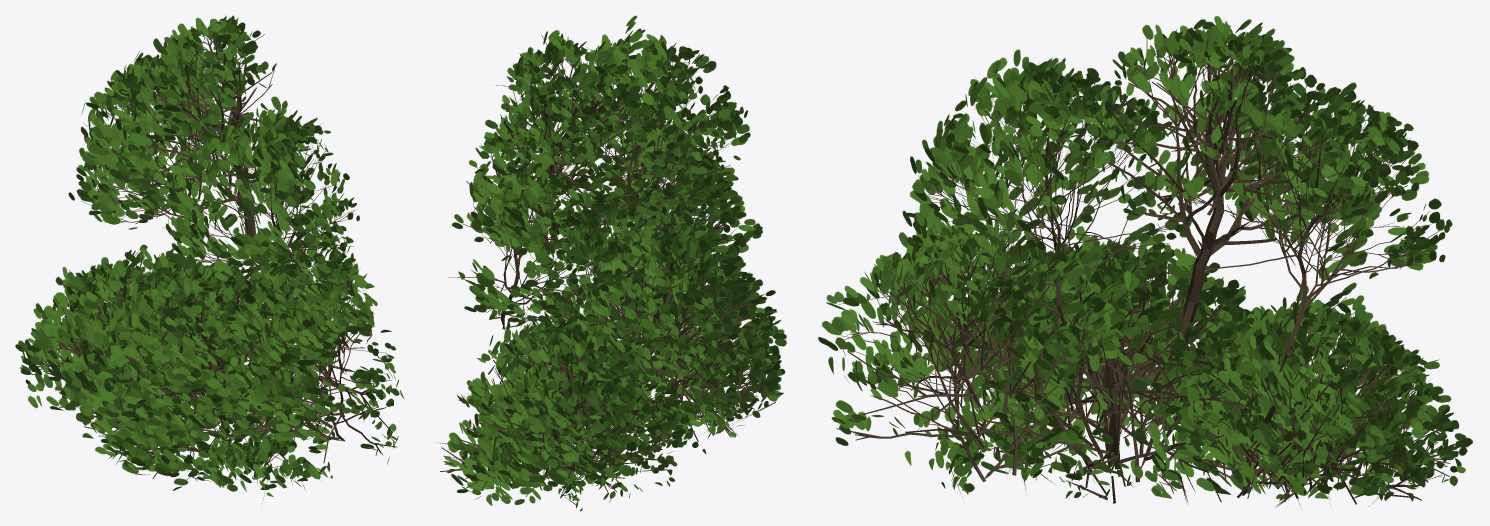
The picture shows the model from 3 angles, left to right: view 1: azimuth 30°, elevation 25°; view 2: azimuth 150°, elevation 25°; view 3: azimuth 270°, elevation 25°; orthographic projection. The views are drawn at different scales.
Visible parts, largest first — view 1: oak 01.001_trunk_Mat.001_0.362; view 2: oak 01.001_trunk_Mat.001_0.362; view 3: oak 01.001_trunk_Mat.001_0.362.
Boxes of the visible parts, x1,y1,x2,y2 form: oak 01.001_trunk_Mat.001_0.362: [15, 15, 404, 503]; oak 01.001_trunk_Mat.001_0.362: [437, 15, 786, 511]; oak 01.001_trunk_Mat.001_0.362: [818, 16, 1472, 507].
Size of the model in its own units: 1.95 by 3.41 by 4.12.
Materials: 2 (1 with a texture image).
